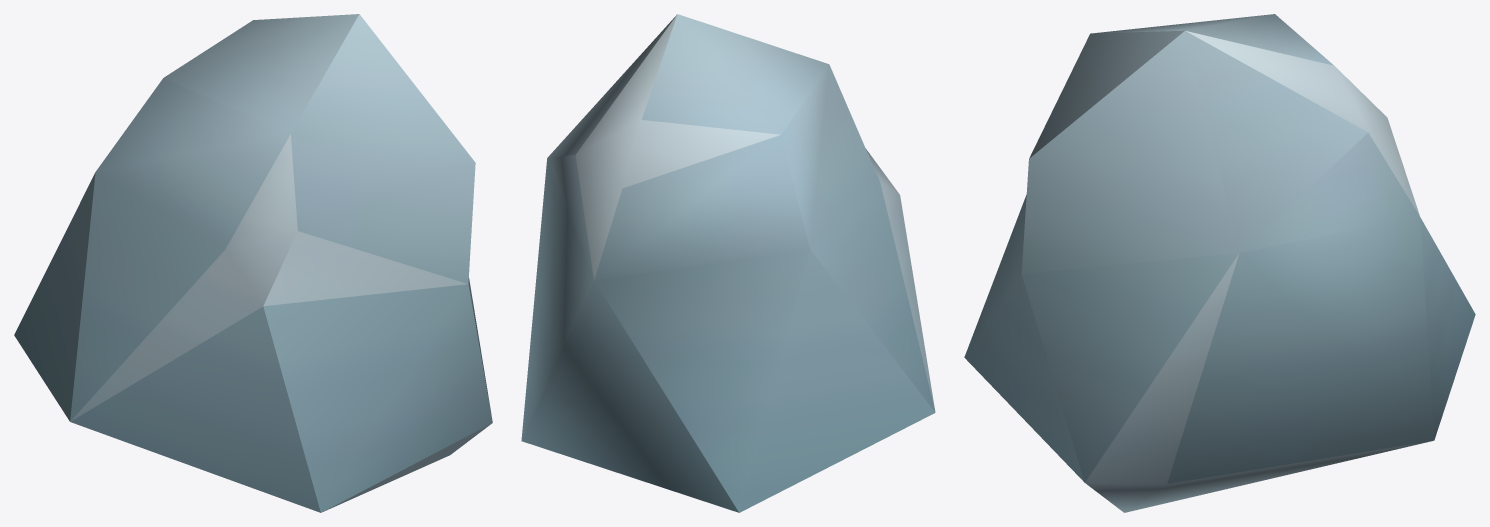
Rendered from silver_nugget_medium.glb.
3 views of the same model, side by side, from view 1: azimuth 30°, elevation 25°; view 2: azimuth 150°, elevation 25°; view 3: azimuth 270°, elevation 25° (orthographic). The views are drawn at different scales.
Visible parts, largest first — view 1: Silver_Nugget_Medium; view 2: Silver_Nugget_Medium; view 3: Silver_Nugget_Medium.
Part boxes in pixels (x1,y1,x2,y2): Silver_Nugget_Medium: (14, 14, 492, 512); Silver_Nugget_Medium: (521, 14, 935, 512); Silver_Nugget_Medium: (964, 14, 1475, 512).
Size of the model in its own units: 0.2589 by 0.2781 by 0.2819.
Materials: 1 (1 with a texture image).
